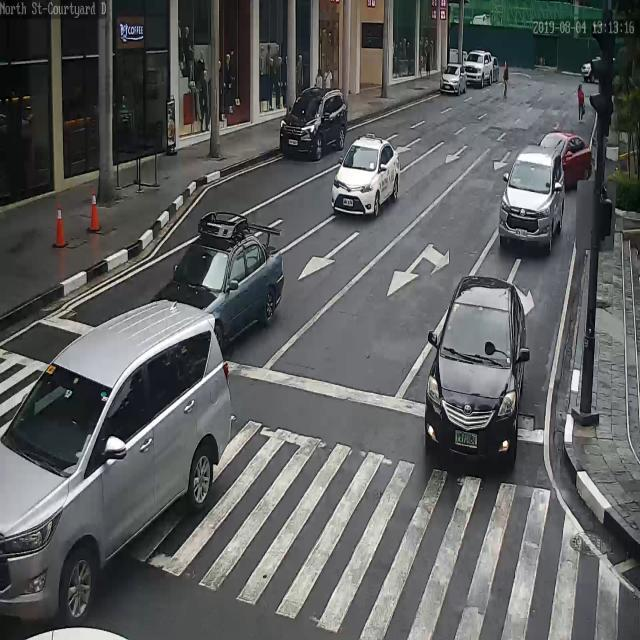car: (0, 298, 233, 623), (424, 273, 526, 463), (153, 215, 284, 350), (498, 144, 563, 249), (277, 85, 348, 161), (332, 134, 399, 214), (539, 131, 592, 186), (463, 51, 491, 86), (440, 63, 470, 95), (581, 59, 603, 83), (491, 53, 500, 83)
